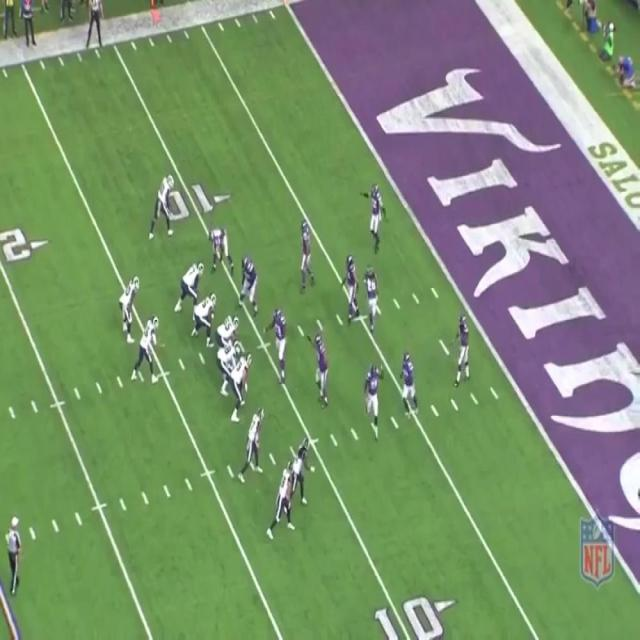center: (216, 313, 241, 354)
db: (362, 176, 388, 251), (396, 353, 421, 414), (363, 266, 378, 320), (458, 312, 469, 377)
lb: (364, 365, 382, 435), (341, 256, 359, 323), (296, 220, 313, 287)
qb: (140, 318, 158, 380)
skill: (266, 460, 297, 532), (152, 170, 174, 240), (293, 432, 314, 502), (247, 407, 262, 473), (125, 274, 142, 332)
